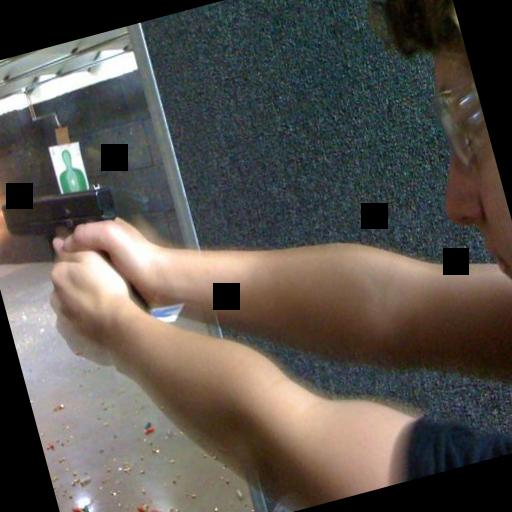Handgun: (0, 162, 140, 302)
